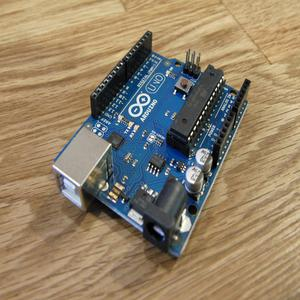duino: (43, 18, 254, 275)
